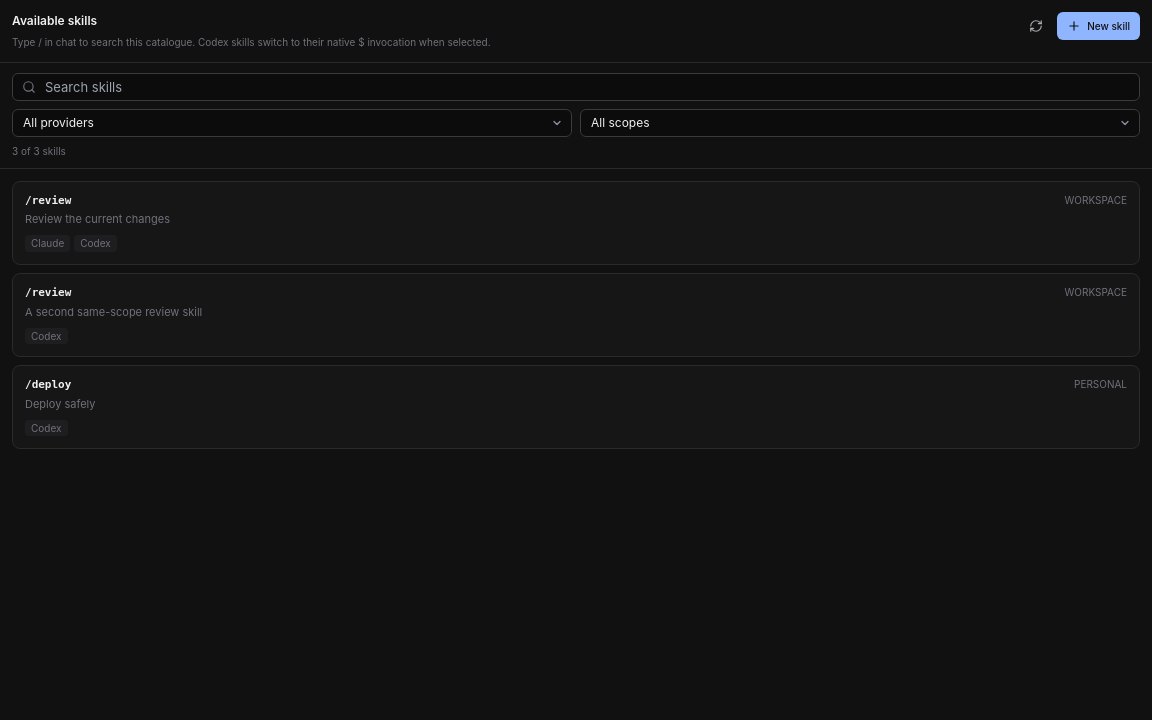
Test: SkillsPanel › rejects unsafe skill names before handing work to the agent
Expected: the element with test id "skill-review-workspace-0" is shown, [12, 180, 1140, 265]
Click the button with test id "skill-new" at (1099, 26), box [1057, 12, 1140, 40]
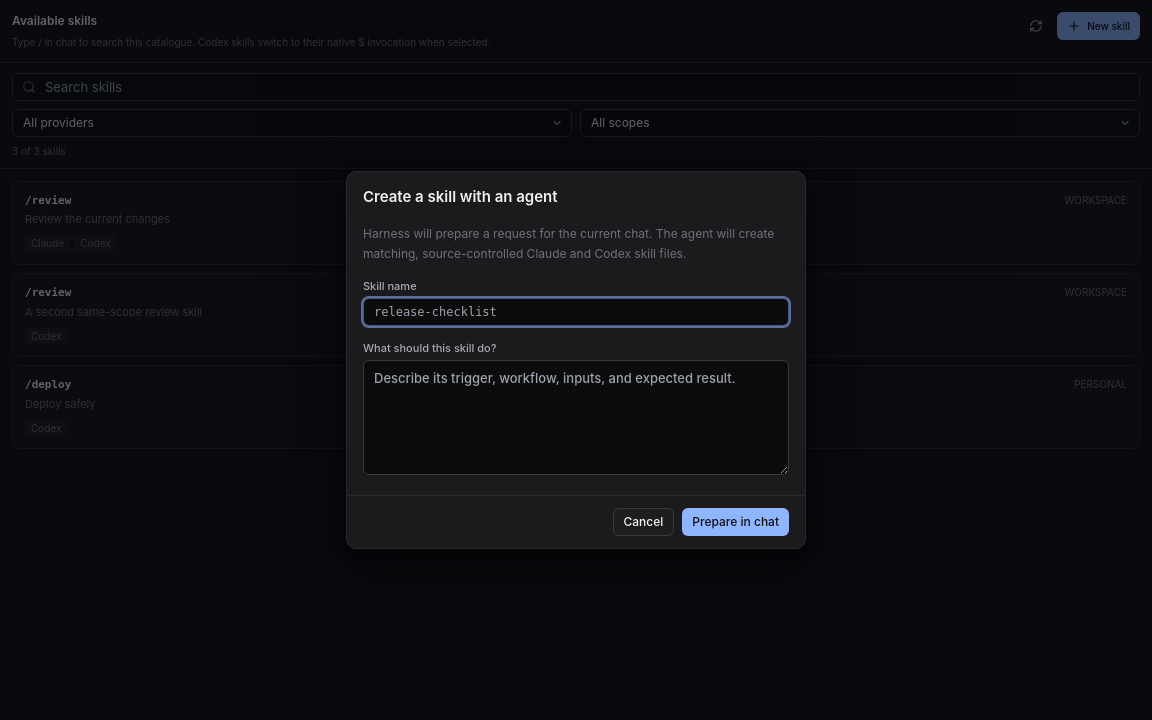
Type "../escape" into the field labelled "Skill name" at (576, 312), box [363, 298, 789, 326]
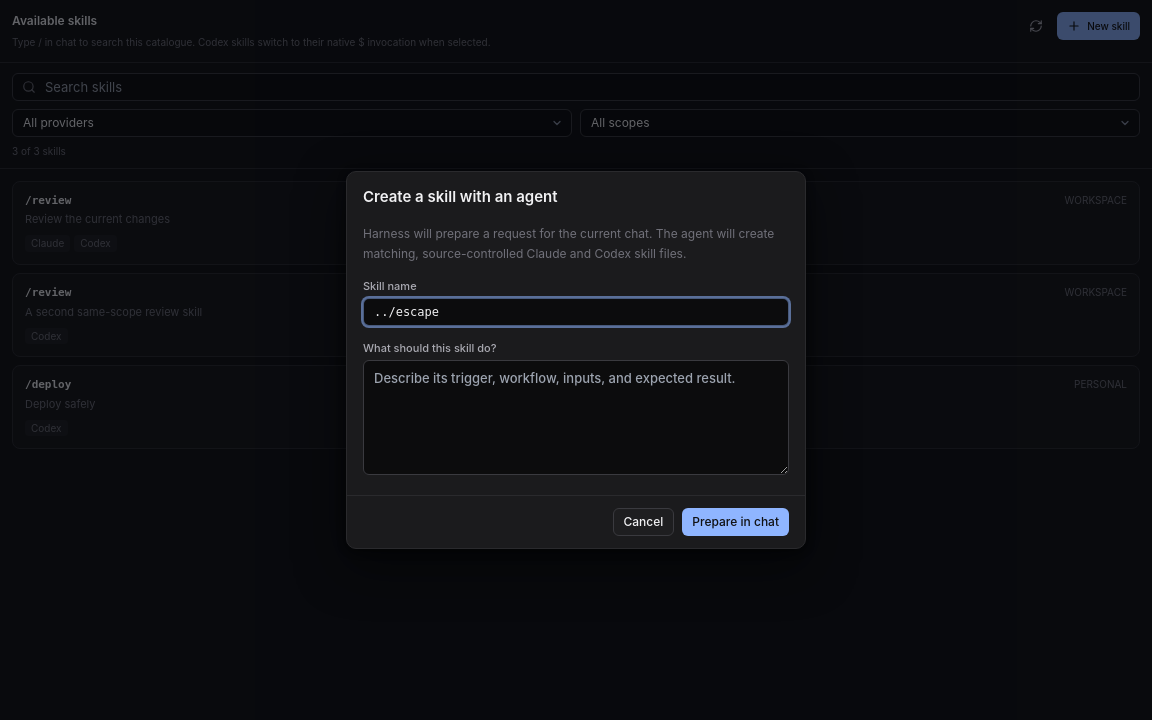
Type "Do something useful." into the text box named "Skill purpose" at (576, 418), box [363, 360, 789, 475]
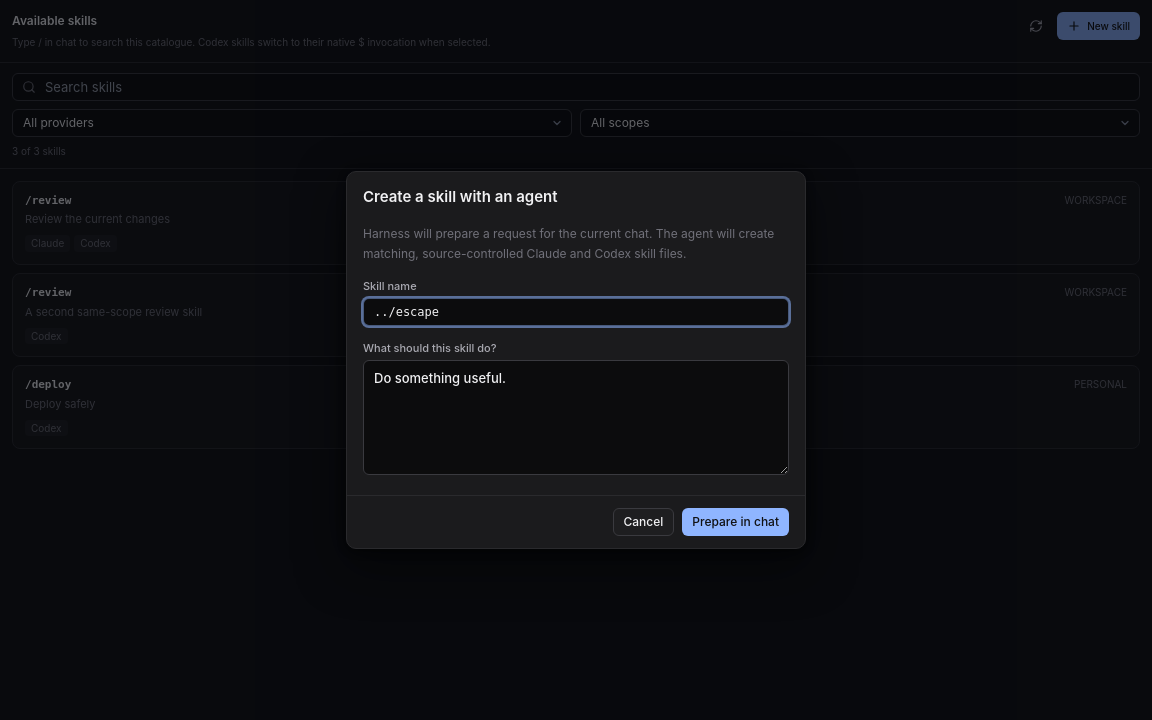
Click the button with test id "skill-prepare" at (736, 522), box [682, 508, 789, 536]
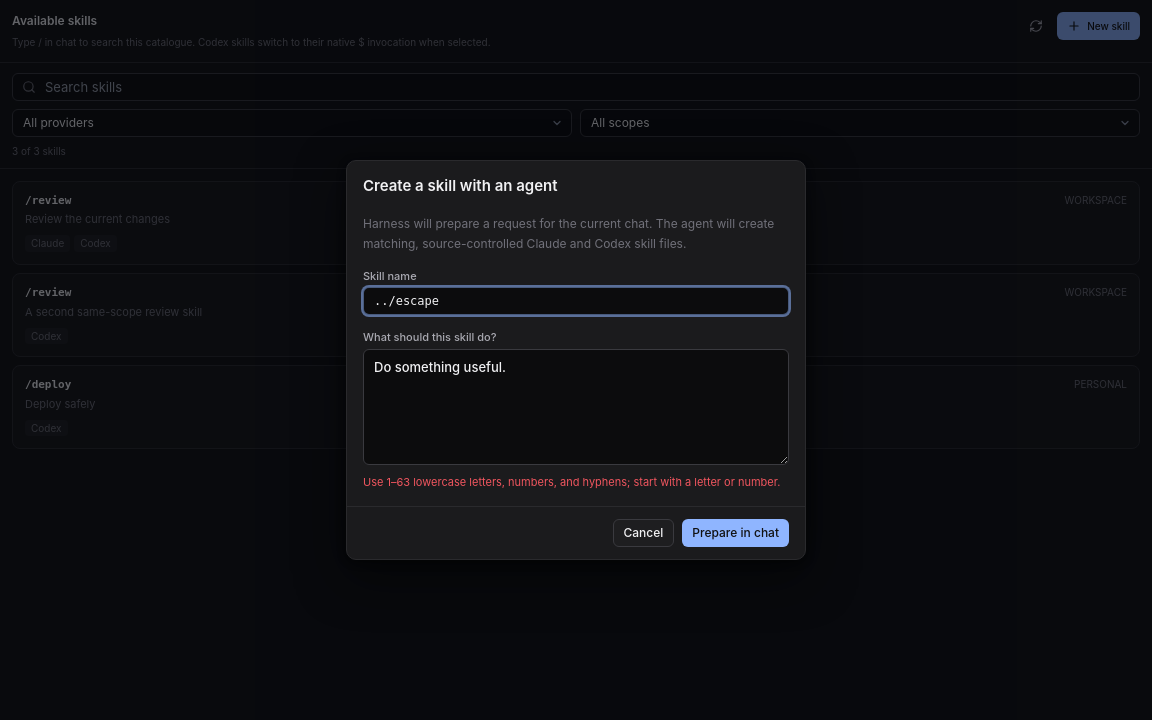
Now the message shows "lowercase letters, numbers, and hyphens", box [363, 475, 780, 489]
